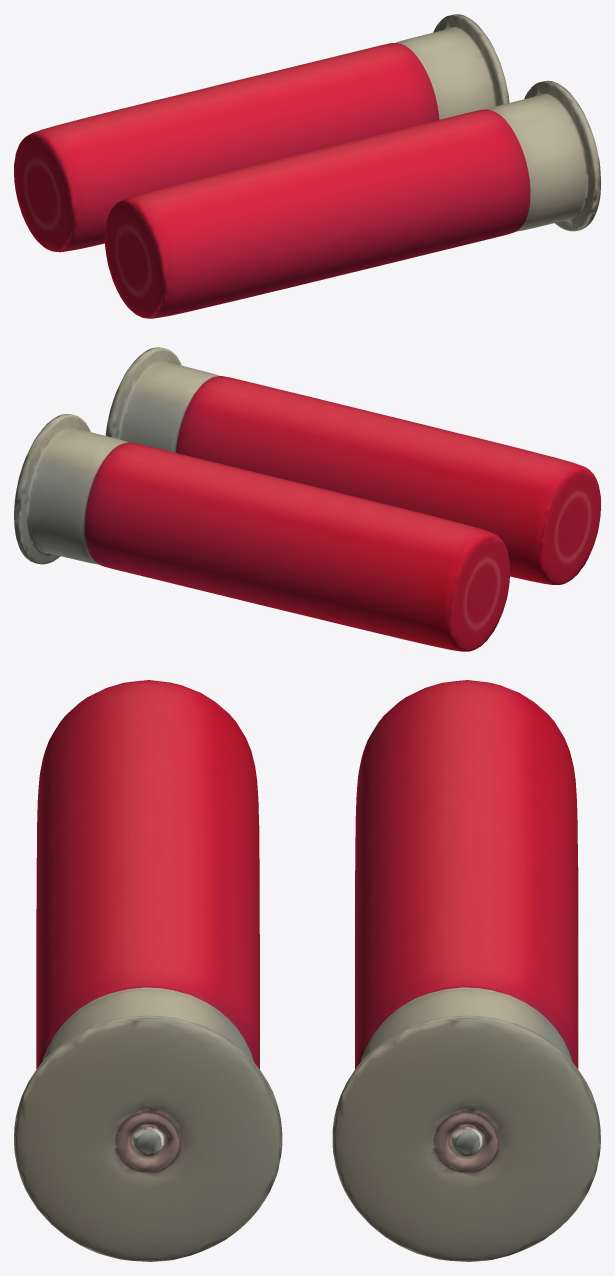
File: the_negotiator_V3_bullet_x2.glb
The picture shows the model from 3 angles, top to bottom: view 1: azimuth 30°, elevation 25°; view 2: azimuth 150°, elevation 25°; view 3: azimuth 270°, elevation 25°; orthographic projection. The views are drawn at different scales.
Parts seen in each view (by area): view 1: the_negotiator_V3_bullet_x2; view 2: the_negotiator_V3_bullet_x2; view 3: the_negotiator_V3_bullet_x2.
Boxes of the visible parts, x1,y1,x2,y2 form: the_negotiator_V3_bullet_x2: (14, 14, 600, 318); the_negotiator_V3_bullet_x2: (14, 347, 600, 651); the_negotiator_V3_bullet_x2: (14, 680, 600, 1261).
Size of the model in its own units: 0.07 by 0.0215 by 0.0469.
1 material, 1 textured.
